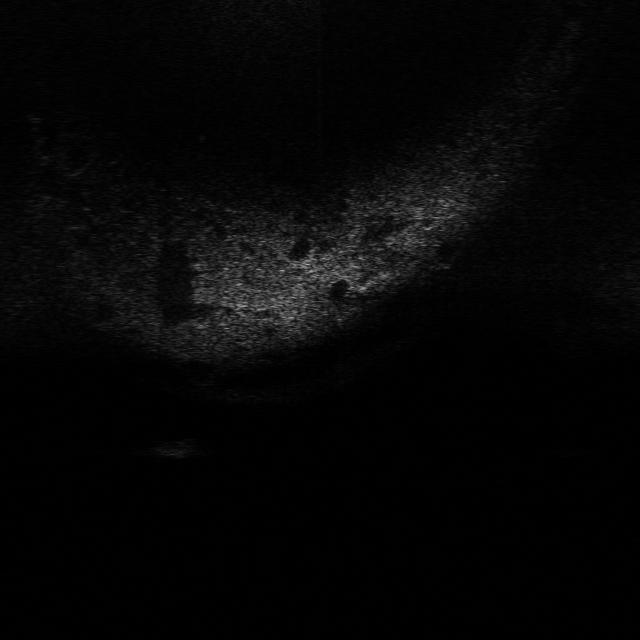cube: (143, 433, 203, 463)
